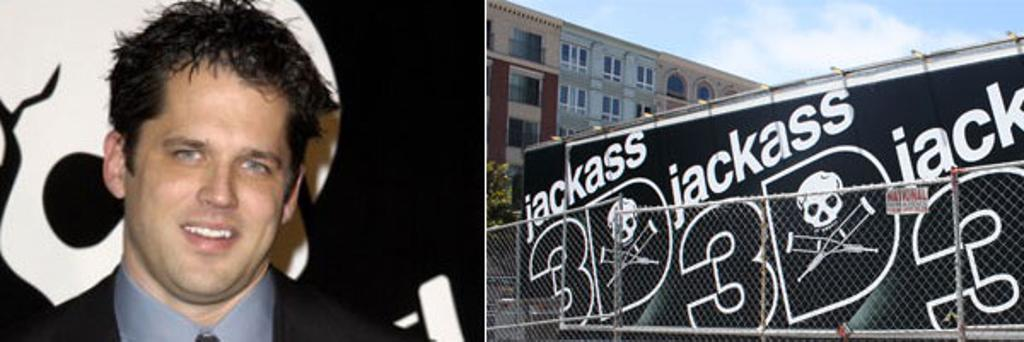face: (134, 64, 290, 306)
